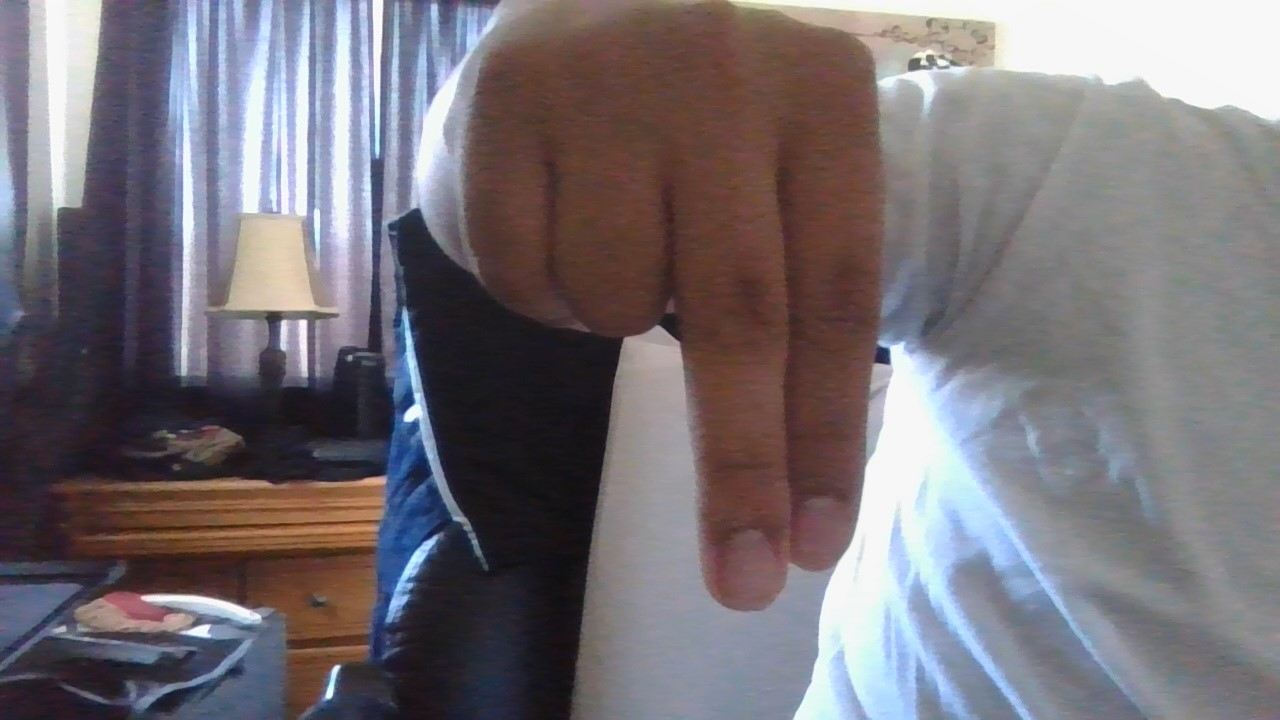n: (401, 1, 940, 609)
